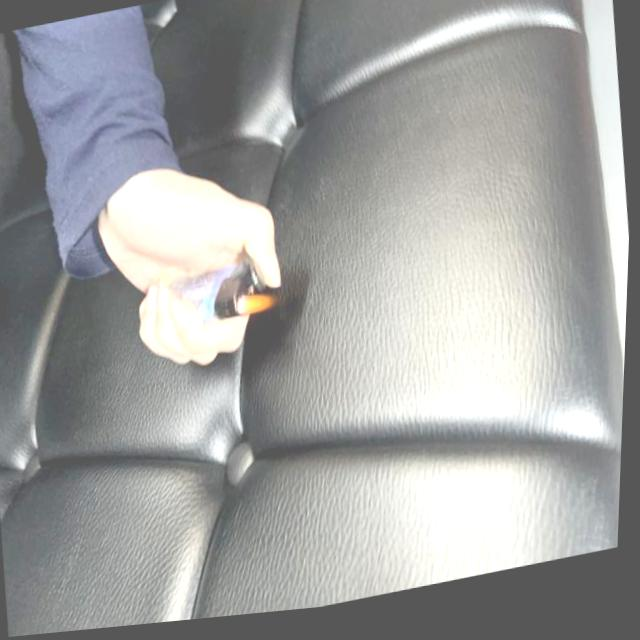helmet: (237, 292, 282, 320)
